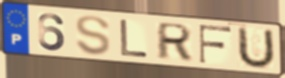6: (37, 12, 67, 52)
F: (198, 23, 234, 65)
L: (118, 18, 150, 59)
R: (155, 22, 194, 62)
S: (74, 14, 113, 57)
U: (236, 25, 277, 70)
